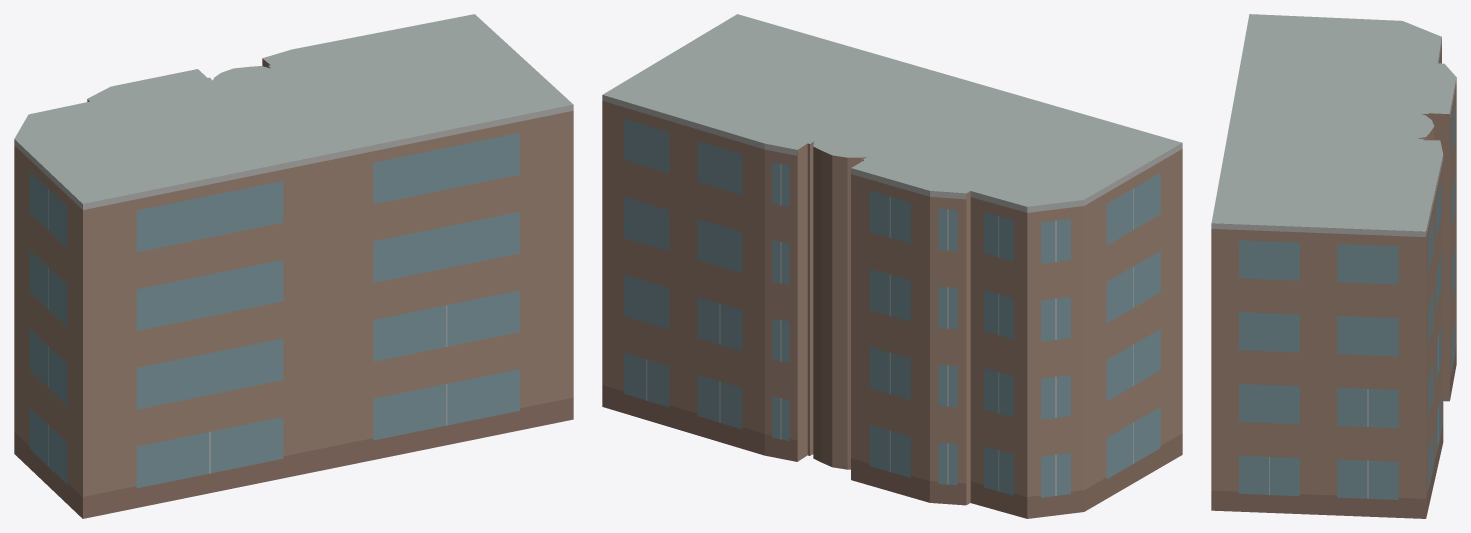
File: survey-upis-32871187.glb
3 views of the same model, side by side, from view 1: azimuth 30°, elevation 25°; view 2: azimuth 150°, elevation 25°; view 3: azimuth 270°, elevation 25° (orthographic). The views are drawn at different scales.
Visible parts, largest first — view 1: survey-upis-32871187.tmp; view 2: survey-upis-32871187.tmp; view 3: survey-upis-32871187.tmp.
Part boxes in pixels (box(x1,y1,x2,y2)): survey-upis-32871187.tmp: box(14, 14, 573, 518); survey-upis-32871187.tmp: box(602, 14, 1182, 518); survey-upis-32871187.tmp: box(1211, 14, 1456, 518).
Bounding box in the file's own units: 20.64 × 12.7 × 9.83.
